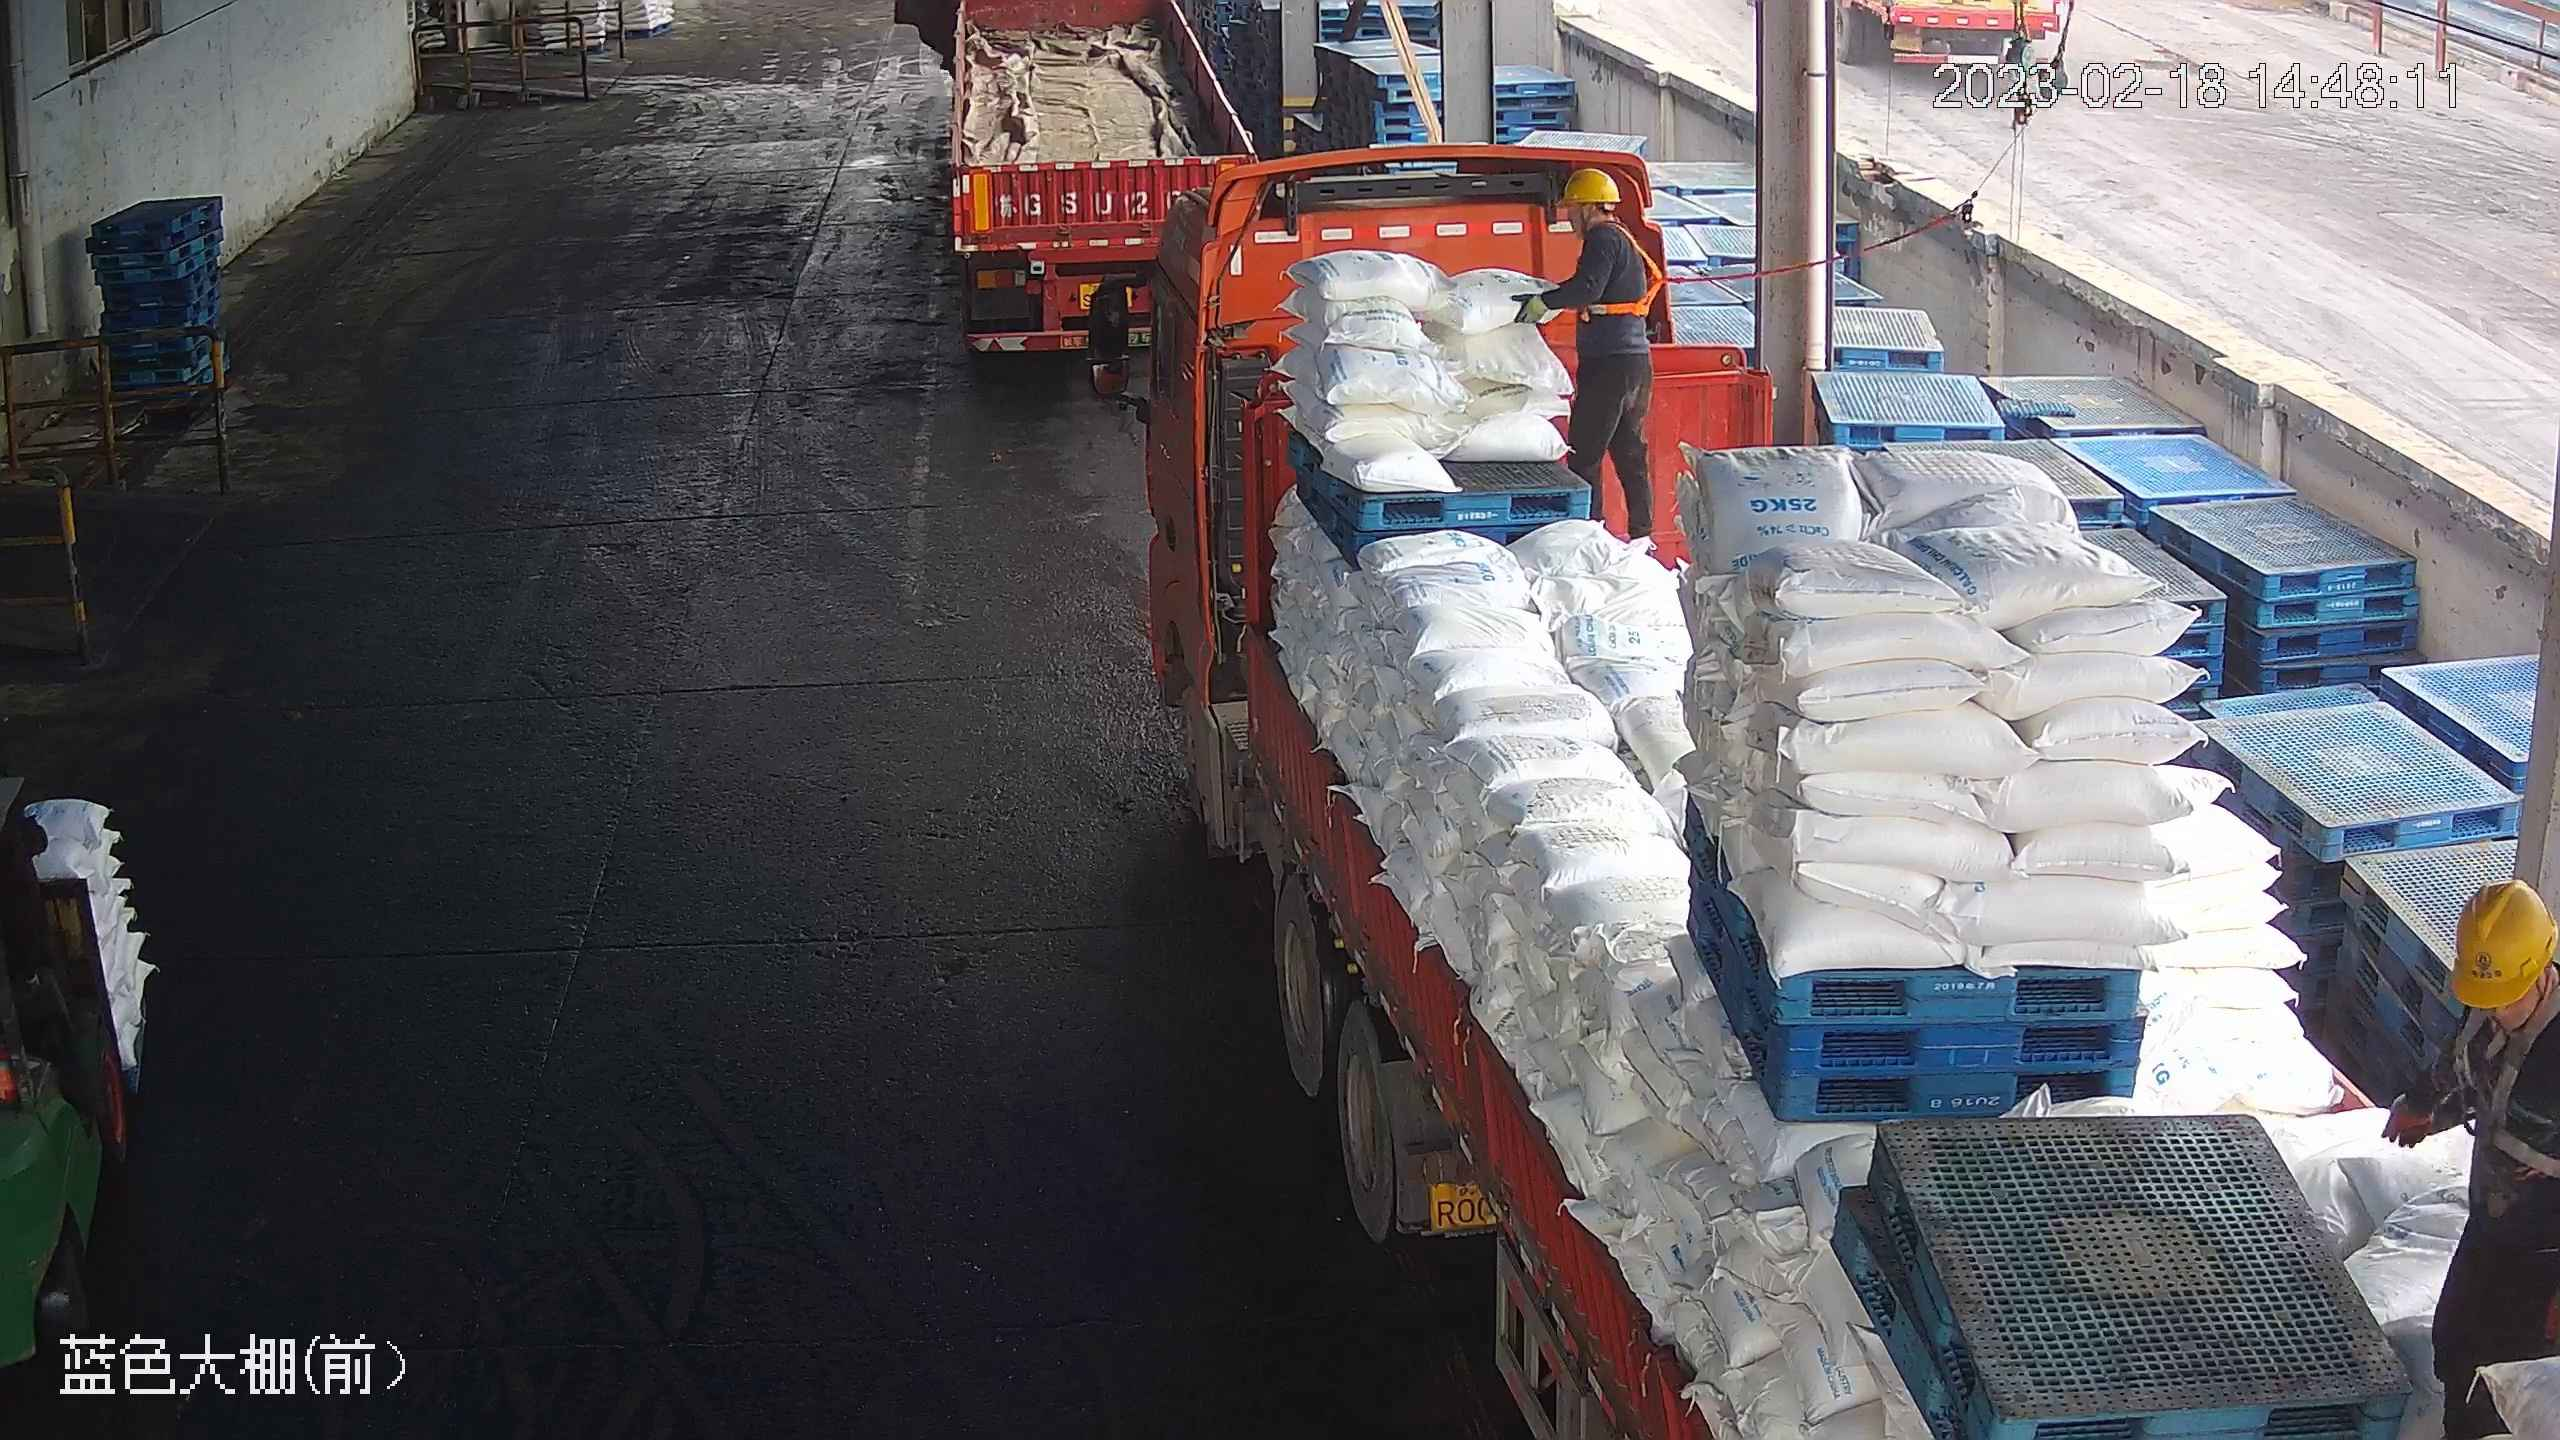belt: (2457, 995, 2560, 1169), (1580, 221, 1667, 321)
head: (2409, 877, 2560, 1125), (1543, 165, 1661, 275)
helmet: (2447, 877, 2559, 1009), (1557, 163, 1623, 208)
people: (2381, 880, 2560, 1434), (1517, 163, 1669, 547)
truck: (1085, 145, 2556, 1439), (940, 1, 1260, 355)
